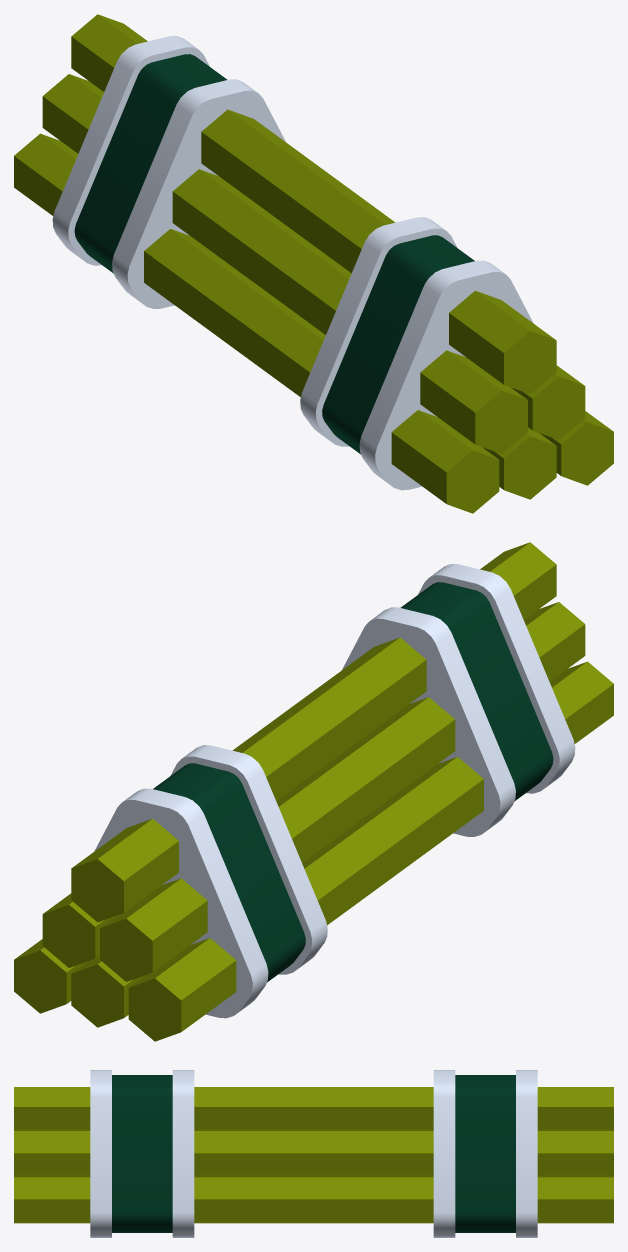
The model's file is railgun_rods.fbx.
The picture shows the model from 3 angles, top to bottom: view 1: azimuth 30°, elevation 25°; view 2: azimuth 150°, elevation 25°; view 3: azimuth 270°, elevation 25°; orthographic projection. The views are drawn at different scales.
Parts seen in each view (by area): view 1: railgun_rods; view 2: railgun_rods; view 3: railgun_rods.
Boxes of the visible parts, bbox=[...] form: railgun_rods: bbox=[14, 14, 613, 513]; railgun_rods: bbox=[14, 542, 613, 1041]; railgun_rods: bbox=[14, 1070, 613, 1237].
Bounding box in the file's own units: 6.69 × 6.3 × 25.04.
